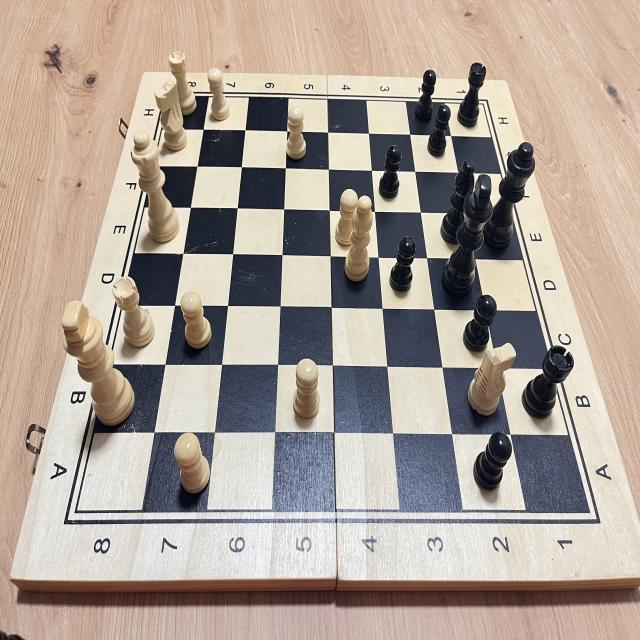black-bishop: (439, 155, 477, 250)
black-king: (434, 171, 498, 304)
black-pawn: (470, 422, 518, 496), (458, 288, 500, 361), (372, 132, 410, 204), (386, 232, 422, 300), (408, 63, 442, 129), (424, 101, 455, 163)
black-queen: (482, 138, 538, 265)
black-rook: (517, 337, 578, 428), (455, 56, 491, 132)
white-bishop: (340, 190, 377, 293)
white-king: (59, 292, 139, 433)
white-knight: (464, 333, 524, 427), (151, 72, 192, 161)
white-pawn: (170, 422, 216, 500), (288, 354, 330, 432), (177, 285, 217, 355), (330, 183, 366, 252), (203, 62, 235, 127), (282, 101, 311, 168)
white-queen: (128, 121, 183, 251)
white-rook: (108, 270, 158, 354), (163, 45, 204, 122)
